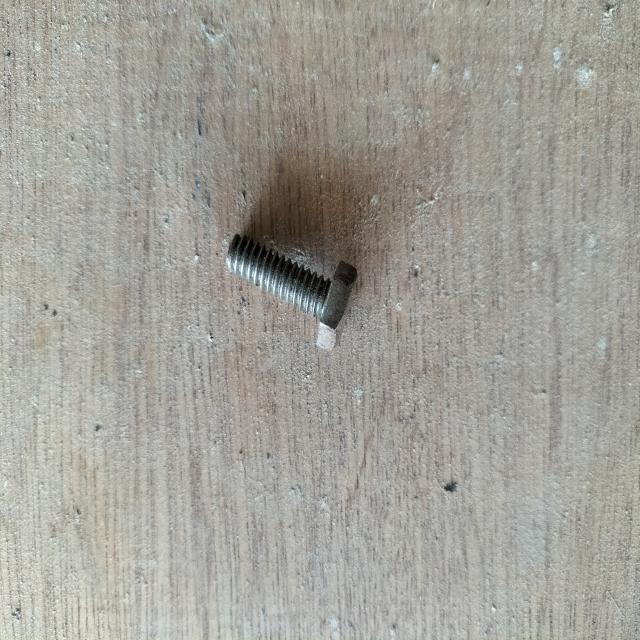bolt: (227, 233, 357, 351)
